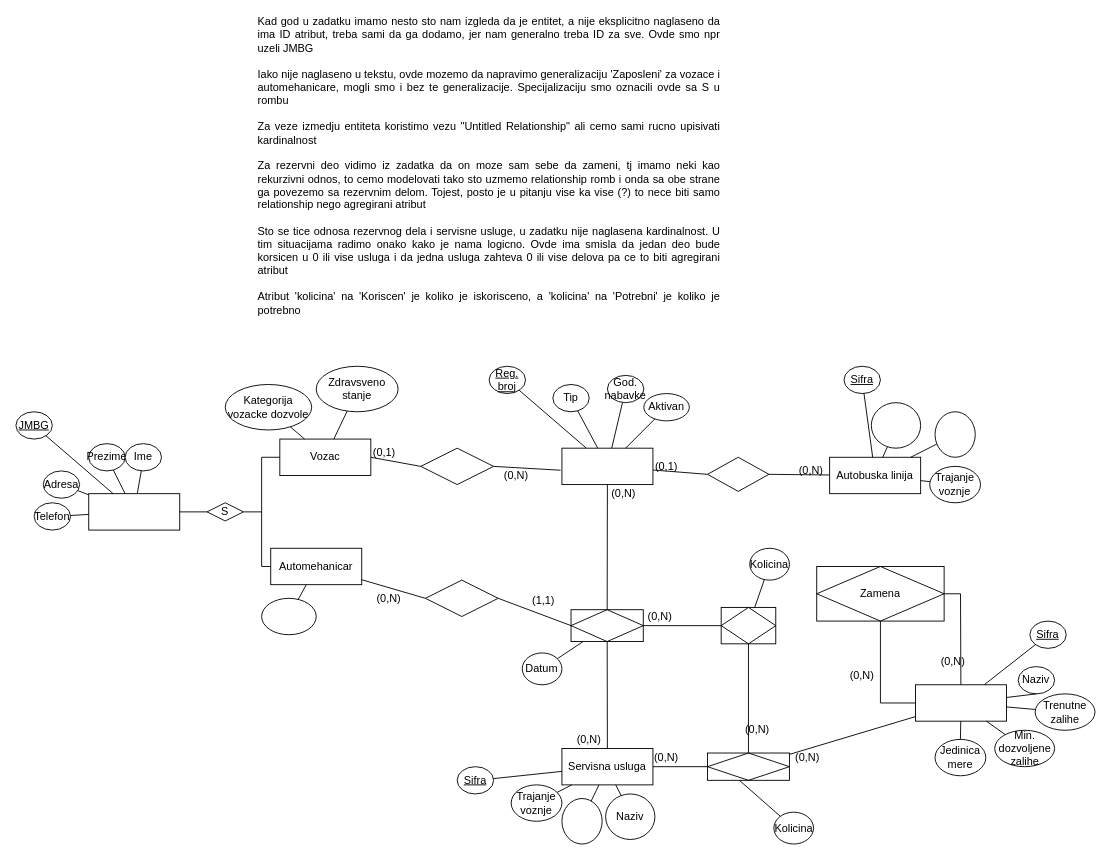
This 1111x860 diagram has some shape labels left out. The box of each missing label's shape, as (x1, y1, x2, y2) in pixels:
Autobus: (561, 447, 653, 485)
Izvrsava: (570, 609, 643, 642)
Izvrsio: (425, 579, 498, 617)
Koliko puta: (561, 798, 602, 844)
Koriscen: (720, 607, 776, 644)
Krajnja stanica: (934, 411, 975, 457)
Polazna stanica: (870, 402, 921, 448)
Potrebni: (707, 752, 789, 780)
Rasporedjen: (420, 447, 494, 485)
Rezervni deo: (915, 684, 1006, 721)
Saobraca: (707, 456, 769, 491)
Strucna sprema: (261, 597, 316, 635)
Zaposleni: (88, 493, 180, 530)
